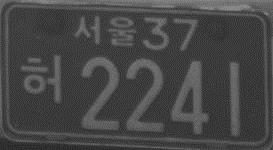1: (224, 59, 245, 140)
2: (80, 54, 121, 133), (126, 56, 165, 135)
3: (141, 16, 171, 51)
4: (169, 58, 212, 136)
7: (171, 16, 199, 51)
서울_O: (73, 14, 137, 48)
허: (18, 54, 65, 105)
